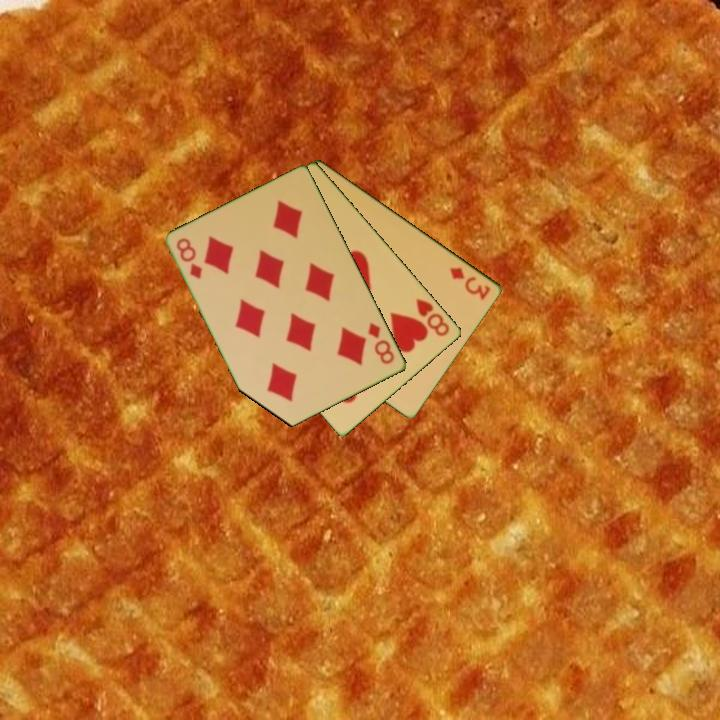3d: (446, 264, 494, 303)
8d: (365, 319, 398, 367), (173, 234, 206, 282)
8h: (412, 294, 453, 340)
